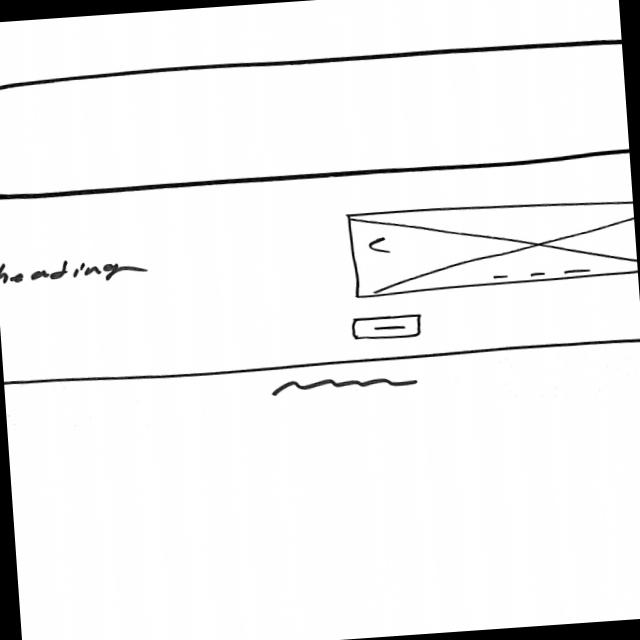container: (1, 38, 630, 202)
icon-button: (351, 314, 423, 343)
image: (345, 192, 639, 299)
label: (1, 253, 151, 289)
text: (268, 371, 422, 399)
